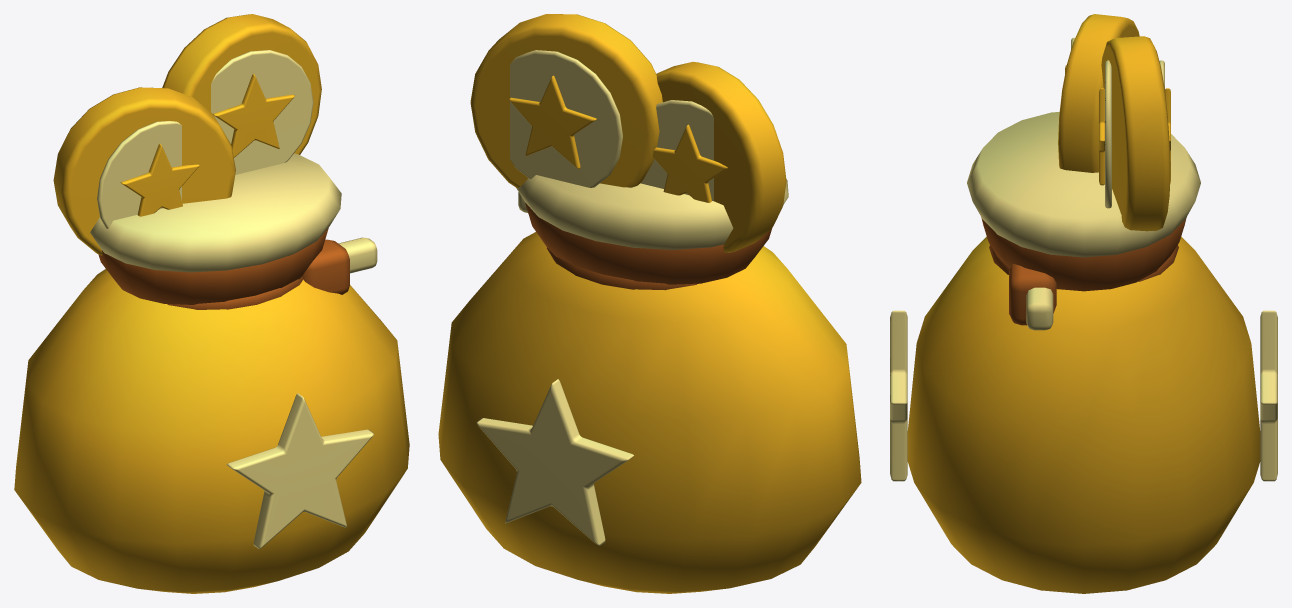
The model's file is gold-rush.glb.
The picture shows the model from 3 angles, left to right: view 1: azimuth 30°, elevation 25°; view 2: azimuth 150°, elevation 25°; view 3: azimuth 270°, elevation 25°; orthographic projection. The views are drawn at different scales.
Parts seen in each view (by area): view 1: pickup_gold-rush; view 2: pickup_gold-rush; view 3: pickup_gold-rush.
Boxes of the visible parts, x1,y1,x2,y2 form: pickup_gold-rush: (14, 14, 409, 593); pickup_gold-rush: (438, 14, 861, 593); pickup_gold-rush: (890, 14, 1277, 593).
Size of the model in its own units: 0.64 by 0.855 by 0.57.
1 material, 1 textured.
